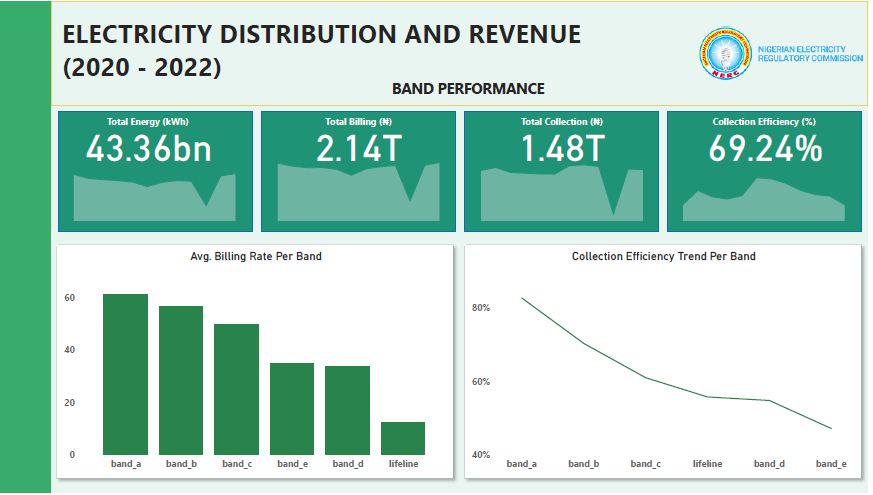

What the dashboard file says about the page in this screenshot:
{"tool":"powerbi","page":{"name":"Band Performance","canvas":[1280,720],"ordinal":5},"visuals":[{"type":"shape","box":[82.7,0,1197.7,152.7],"z":0},{"type":"shape","box":[986.2,162.2,284.7,175],"z":1000},{"type":"shape","box":[688.7,162.2,284.7,175],"z":2000},{"type":"shape","box":[391.3,162.2,284.7,175],"z":3000},{"type":"shape","box":[93.8,162.2,284.7,175],"z":4000},{"type":"shape","box":[9.4,0,73.7,720],"z":5000},{"type":"card","fields":{"Values":["Merged_table.Total Energy (kWh)"]},"box":[114.5,165.4,222.7,85.9],"z":6000},{"type":"image","box":[1027.5,0,249.7,152.7],"z":7000},{"type":"shape","box":[82.7,132,1197.7,39.8],"z":8000},{"type":"areaChart","fields":{"Category":["Merged_table.date.Variation.Date Hierarchy.Month"],"Y":["Sum(Merged_table.energy_kwh)"]},"box":[103.4,221.1,264,105],"z":9000},{"type":"textbox","box":[151.1,162.2,147.9,28.6],"z":10000},{"type":"textbox","box":[448.6,162.2,170.2,28.6],"z":11000},{"type":"textbox","box":[739.6,162.2,184.5,28.6],"z":12000},{"type":"textbox","box":[1030.7,162.2,195.6,28.6],"z":13000},{"type":"card","fields":{"Values":["Sum(Merged_table.billing.billing_naira)"]},"box":[423.1,165.4,222.7,85.9],"z":14000},{"type":"card","fields":{"Values":["Sum(Merged_table.collection.collection_naira)"]},"box":[720.5,165.4,222.7,85.9],"z":15000},{"type":"card","fields":{"Values":["Merged_table.Collection Efficiency (%)"]},"box":[1018,165.4,222.7,85.9],"z":16000},{"type":"areaChart","fields":{"Category":["Merged_table.date.Variation.Date Hierarchy.Month"],"Y":["Sum(Merged_table.collection.collection_naira)"]},"box":[699.9,221.1,264,105],"z":17000},{"type":"areaChart","fields":{"Category":["Merged_table.date.Variation.Date Hierarchy.Month"],"Y":["Sum(Merged_table.billing.billing_naira)"]},"box":[402.4,221.1,264,105],"z":18000},{"type":"areaChart","fields":{"Category":["Merged_table.date.Variation.Date Hierarchy.Month"],"Y":["Merged_table.Collection Efficiency (%)"]},"box":[995.7,221.1,264,105],"z":19000},{"type":"shape","box":[82.7,348.3,599.7,361.1],"z":20000},{"type":"shape","box":[680.8,348.3,599.7,361.1],"z":21000},{"type":"textbox","box":[93.8,15.9,830.3,116.1],"z":22000},{"type":"textbox","box":[509,108.2,370.6,39.8],"z":23000},{"type":"lineChart","title":"Collection Efficiency Trend Per Band","fields":{"Category":["Merged_table.band"],"Y":["Merged_table.Collection Efficiency (%)"]},"box":[695.1,362.7,572.6,334],"z":24000},{"type":"columnChart","title":"Avg. Billing Rate Per Band","fields":{"Category":["Merged_table.band"],"Y":["Merged_table.Avg Billing Rate (₦/kWh)"]},"box":[97,362.7,572.6,334],"z":25000}]}

Visuals, with their boxes in screenshot pixels (x1, y1, x2, y2), scaled from the page's 1280x720 canvas onto the 873x495 screenshot:
shape: 56 0 872 105
shape: 673 112 867 232
shape: 470 112 664 232
shape: 267 112 461 232
shape: 64 112 258 232
shape: 6 0 57 494
card - Merged_table.Total Energy (kWh): 78 114 230 173
image: 701 0 871 105
shape: 56 91 872 118
areaChart - Merged_table.date.Variation.Date Hierarchy.Month x Sum(Merged_table.energy_kwh): 71 152 251 224
textbox: 103 112 204 131
textbox: 306 112 422 131
textbox: 504 112 630 131
textbox: 703 112 836 131
card - Sum(Merged_table.billing.billing_naira): 289 114 440 173
card - Sum(Merged_table.collection.collection_naira): 491 114 643 173
card - Merged_table.Collection Efficiency (%): 694 114 846 173
areaChart - Merged_table.date.Variation.Date Hierarchy.Month x Sum(Merged_table.collection.collection_naira): 477 152 657 224
areaChart - Merged_table.date.Variation.Date Hierarchy.Month x Sum(Merged_table.billing.billing_naira): 274 152 455 224
areaChart - Merged_table.date.Variation.Date Hierarchy.Month x Merged_table.Collection Efficiency (%): 679 152 859 224
shape: 56 239 465 488
shape: 464 239 872 488
textbox: 64 11 630 91
textbox: 347 74 600 102
"Collection Efficiency Trend Per Band" lineChart: 474 249 865 479
"Avg. Billing Rate Per Band" columnChart: 66 249 457 479
